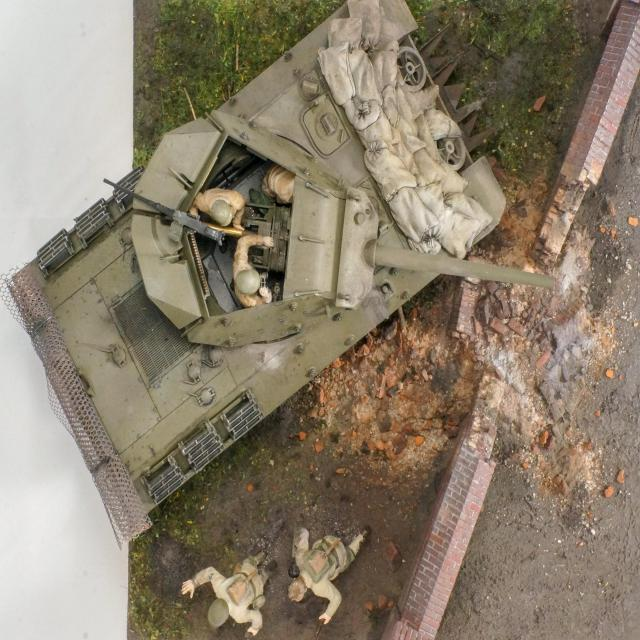Tanks: (18, 36, 518, 596)
